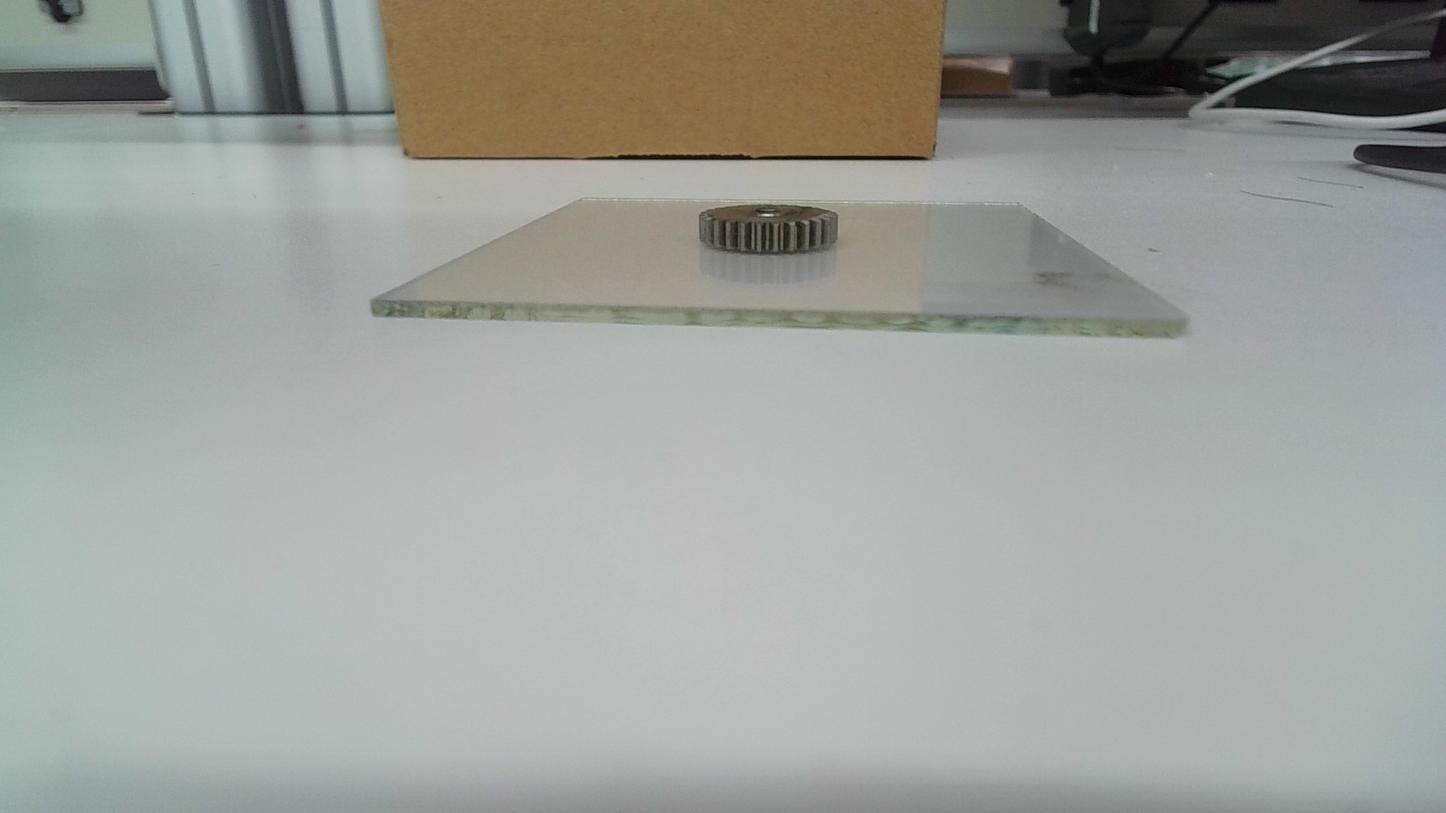gear: (696, 202, 842, 256)
